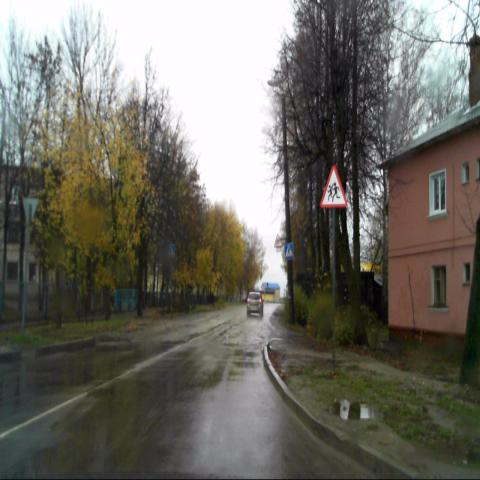1_23: (320, 165, 348, 208), (274, 234, 282, 247)
5_19_1: (284, 242, 294, 259), (167, 242, 175, 257)
